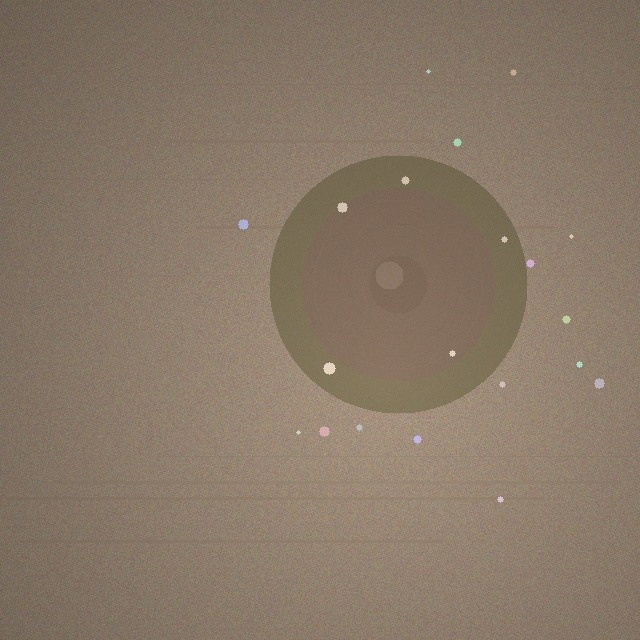overburn: (269, 155, 527, 413)
